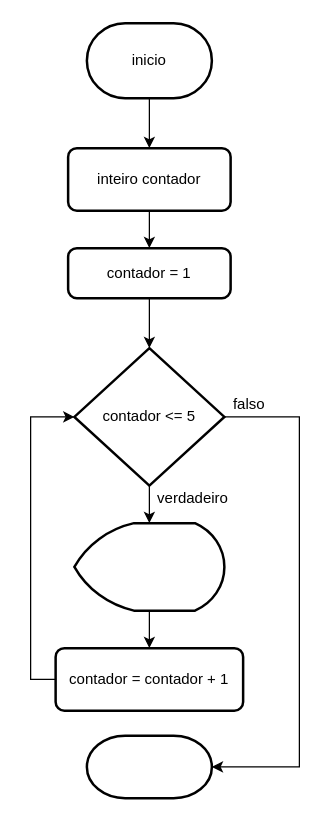
The diagram is 331 pixels wide and 820 high, and some of its shapes have lost their labels. The shapes that lost their labels are listed below. From the top down, each one's centre as x and y in pixels, then its label:
(x=148, y=566): "Contador atual: ", contador
(x=148, y=766): fim
